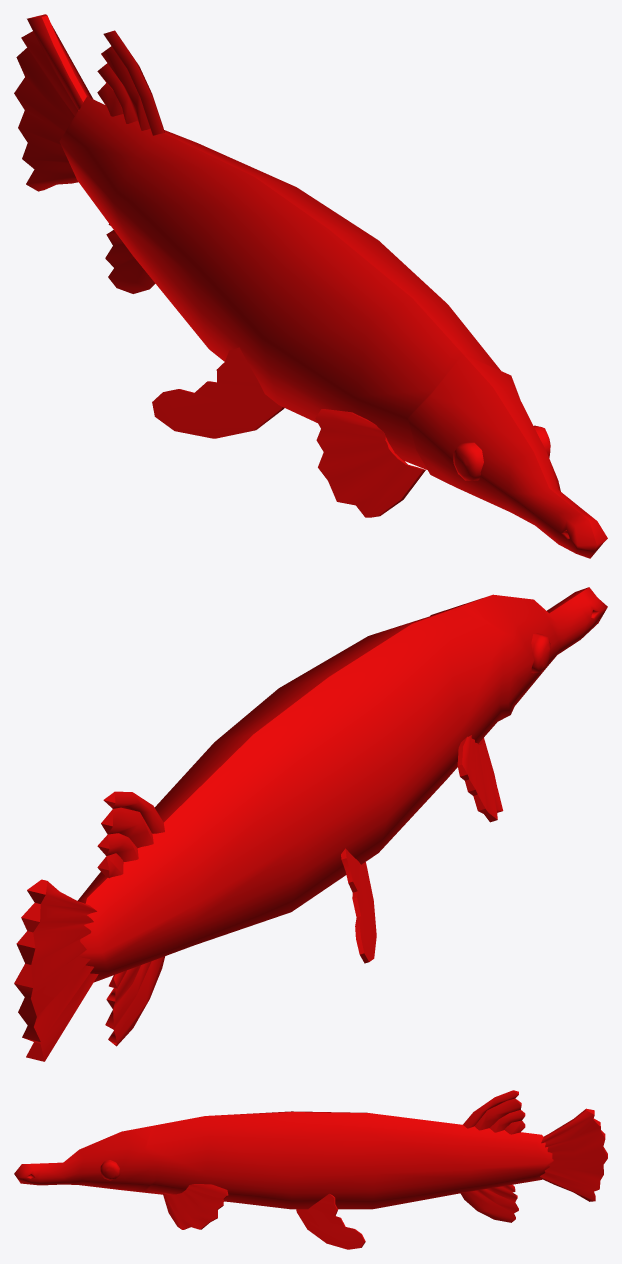
The picture shows the model from 3 angles, top to bottom: view 1: azimuth 30°, elevation 25°; view 2: azimuth 150°, elevation 25°; view 3: azimuth 270°, elevation 25°; orthographic projection. The views are drawn at different scales.
Parts seen in each view (by area): view 1: Fish_AligatorGar; view 2: Fish_AligatorGar; view 3: Fish_AligatorGar.
Boxes of the visible parts, x1,y1,x2,y2 form: Fish_AligatorGar: [14, 14, 607, 558]; Fish_AligatorGar: [14, 587, 607, 1061]; Fish_AligatorGar: [14, 1090, 607, 1249].
Size of the model in its own units: 0.3781 by 0.4397 by 1.75.
